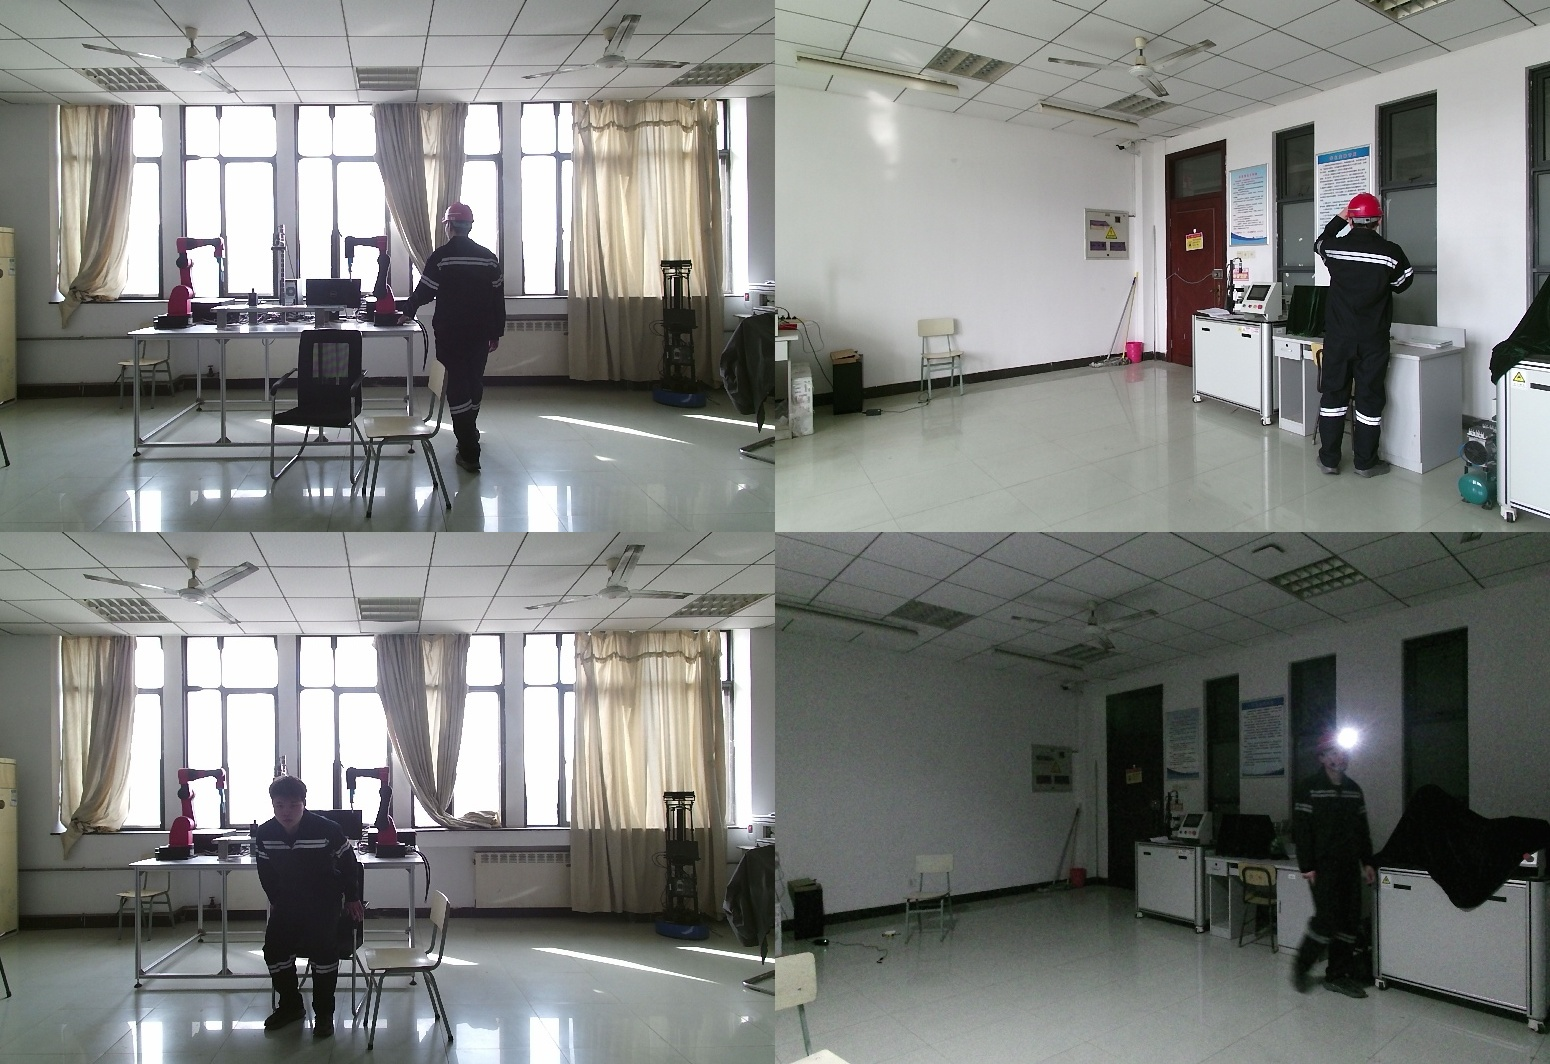person: (1315, 192, 1440, 479), (250, 780, 367, 1036), (408, 203, 516, 478), (1280, 730, 1376, 994)
